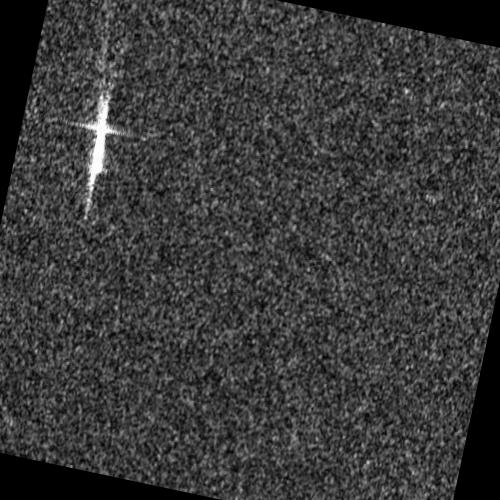ship: (88, 91, 109, 184)
